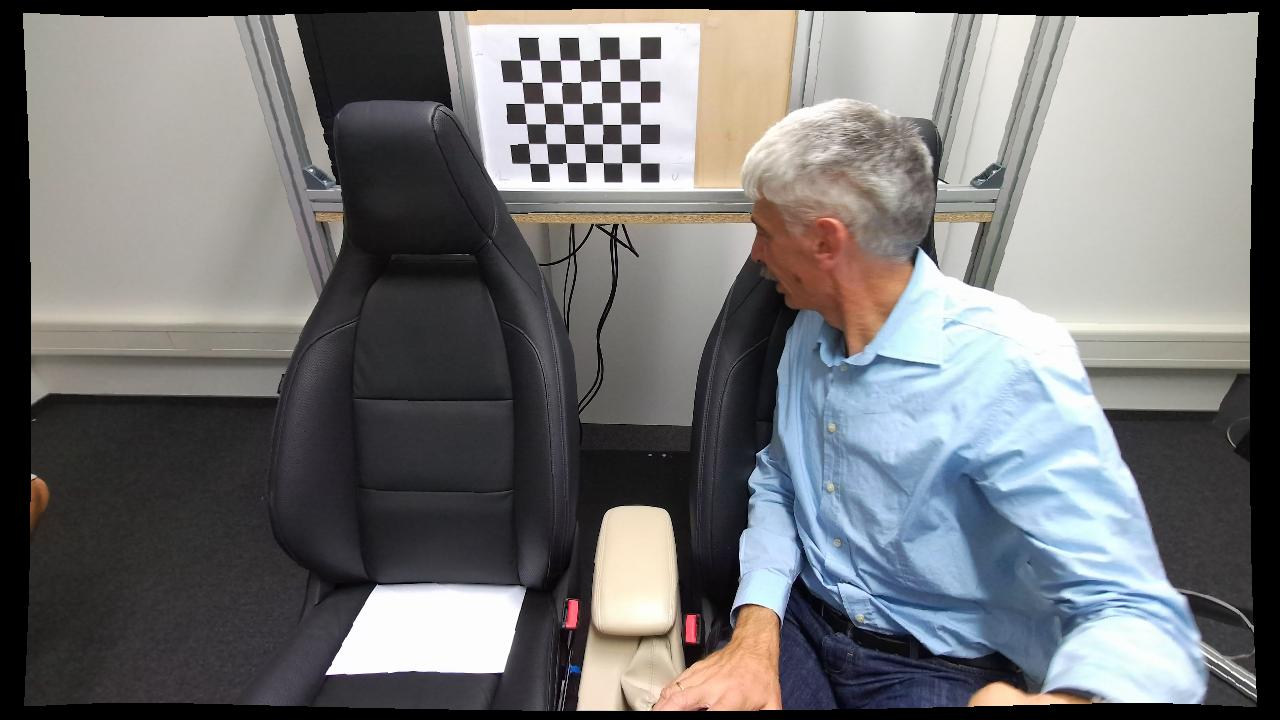Distracted: (723, 92, 1075, 704)
